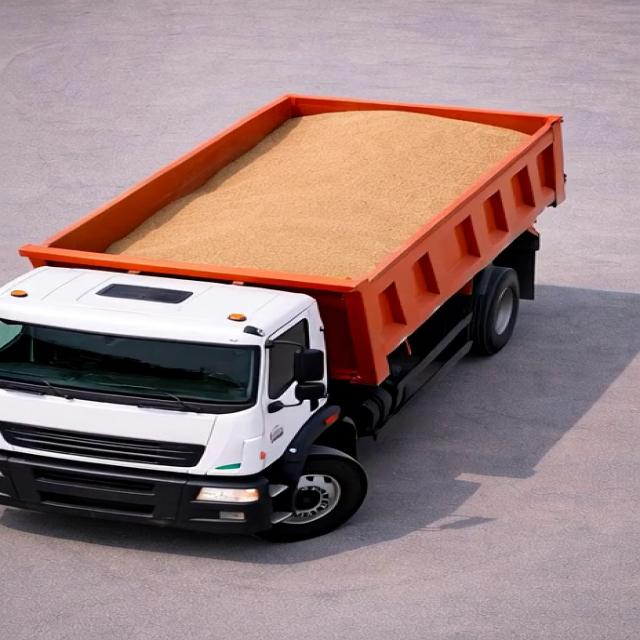Box: (4, 93, 558, 284)
Truck: (0, 86, 586, 538)
